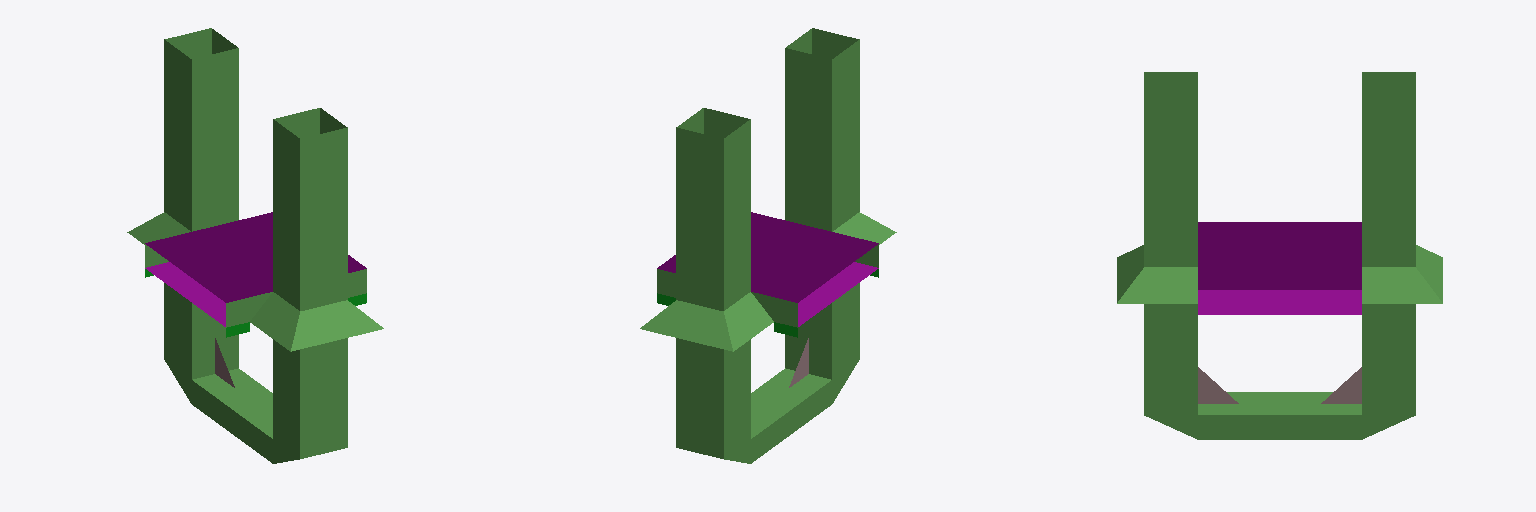
File: hiway03.obj
3 renders of one model, left to right at view 1: azimuth 30°, elevation 25°; view 2: azimuth 150°, elevation 25°; view 3: azimuth 270°, elevation 25°, orthographic.
Visible parts, largest first — view 1: Cube.011_Cube.009; view 2: Cube.011_Cube.009; view 3: Cube.011_Cube.009.
Boxes of the visible parts, <box> form: Cube.011_Cube.009: <box>127,28,383,463</box>; Cube.011_Cube.009: <box>640,28,896,463</box>; Cube.011_Cube.009: <box>1117,72,1442,439</box>.
Bounding box in the file's own units: 120 × 280 × 240.